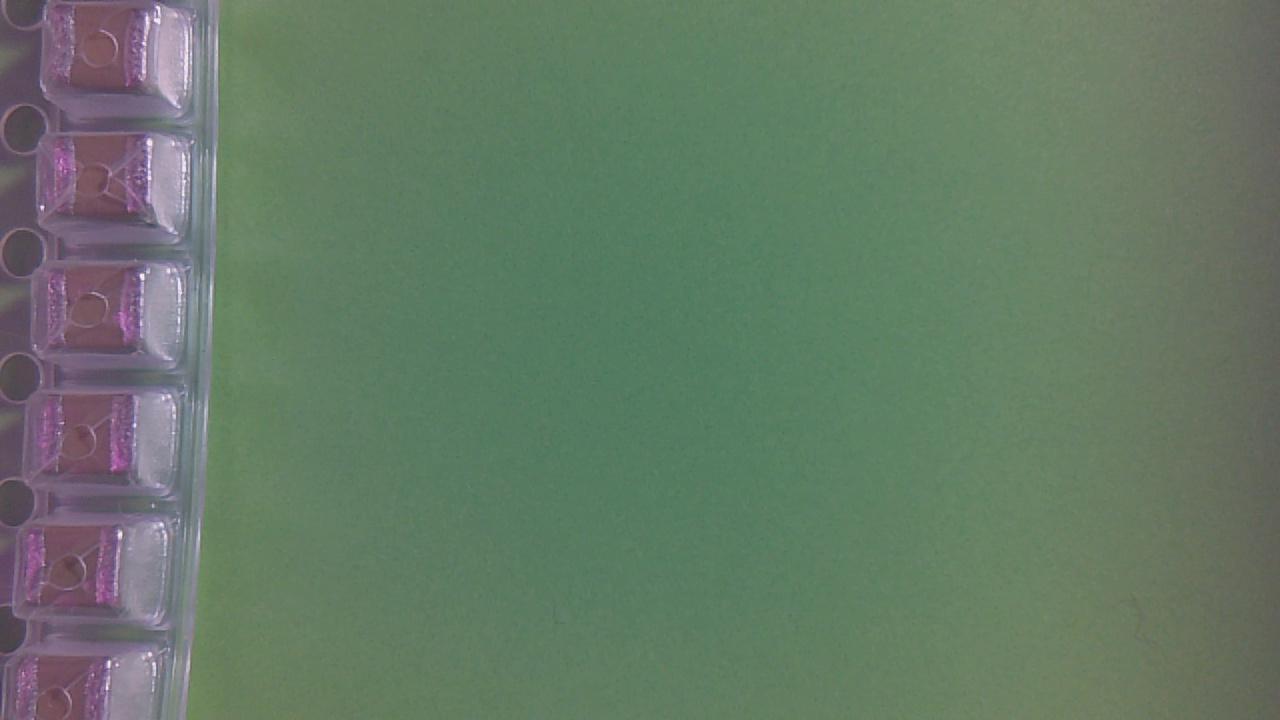Condensator: (49, 138, 158, 226), (48, 270, 155, 354), (55, 10, 158, 95), (40, 400, 144, 484), (27, 527, 131, 609), (21, 659, 112, 720)
